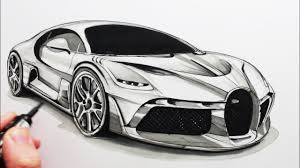car: (3, 16, 278, 159)
